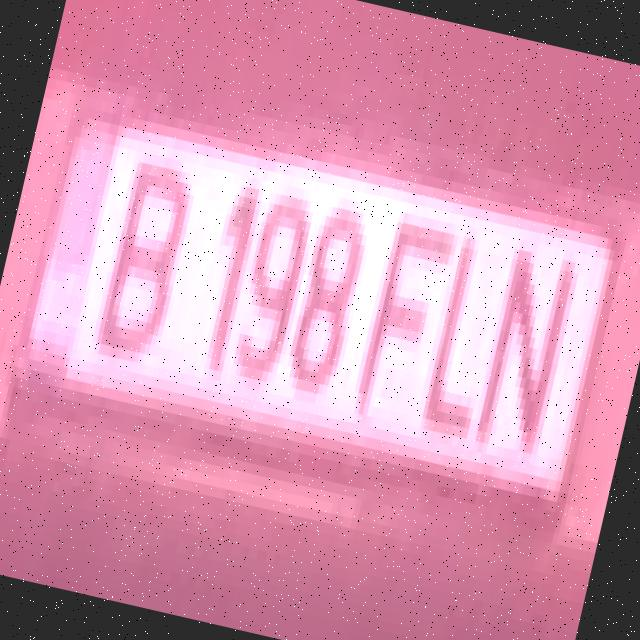Autre: (10, 101, 625, 514)
